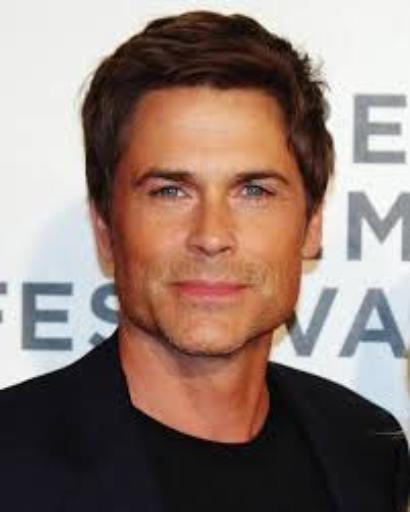left_eye: (232, 183, 278, 204)
left_lip_corner: (238, 278, 258, 297)
right_eye: (145, 184, 194, 205)
right_lip_corner: (165, 277, 186, 296)
